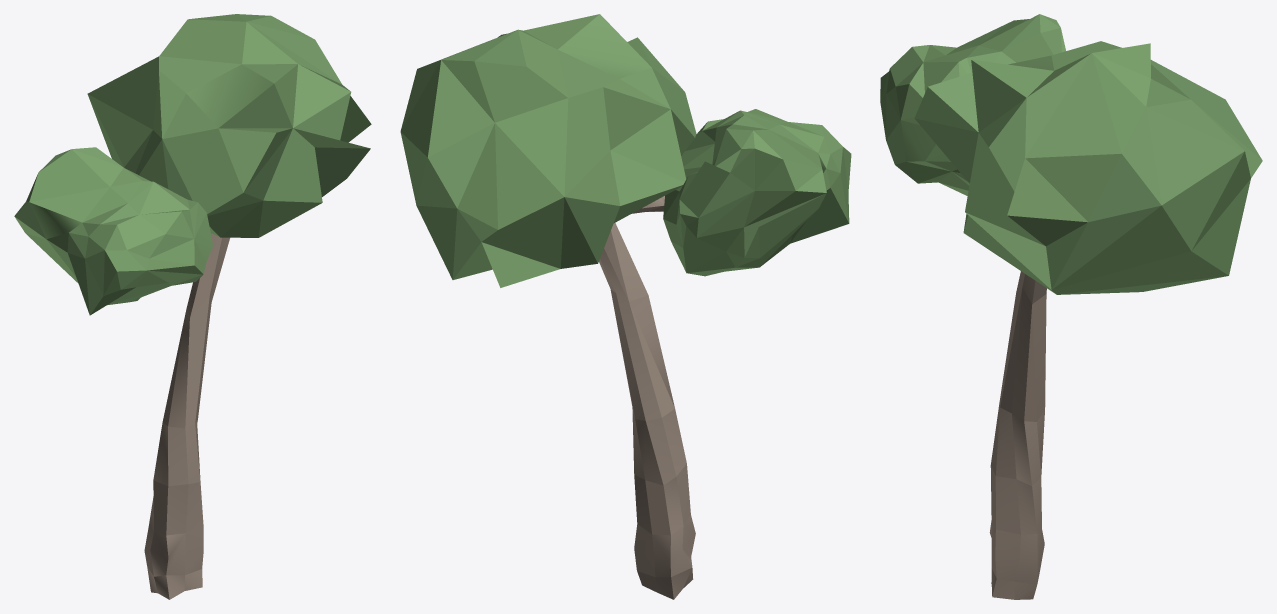
The model's file is tree1.fbx.
3 renders of one model, left to right at view 1: azimuth 30°, elevation 25°; view 2: azimuth 150°, elevation 25°; view 3: azimuth 270°, elevation 25°, orthographic. The views are drawn at different scales.
Visible parts, largest first — view 1: pSolid45, pSolid46, pCube12; view 2: pSolid45, pSolid46, pCube12; view 3: pSolid45, pCube12, pSolid46.
Part boxes in pixels (x1=…): pSolid45: x1=87, y1=14, x2=371, y2=237; pSolid46: x1=14, y1=147, x2=213, y2=315; pCube12: x1=144, y1=233, x2=229, y2=599; pSolid45: x1=400, y1=14, x2=696, y2=287; pSolid46: x1=663, y1=109, x2=851, y2=276; pCube12: x1=599, y1=196, x2=695, y2=599; pSolid45: x1=914, y1=41, x2=1262, y2=294; pCube12: x1=989, y1=271, x2=1046, y2=599; pSolid46: x1=880, y1=14, x2=1065, y2=195.
Size of the model in its own units: 8.33 by 11.85 by 6.8.
